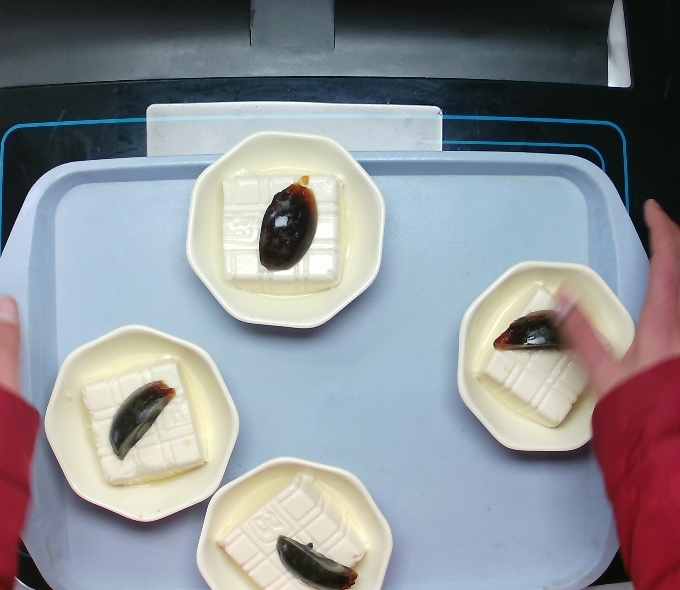wcq-PiDanDouFu: (464, 286, 616, 435), (214, 458, 374, 590), (201, 161, 340, 296), (81, 355, 208, 492)
